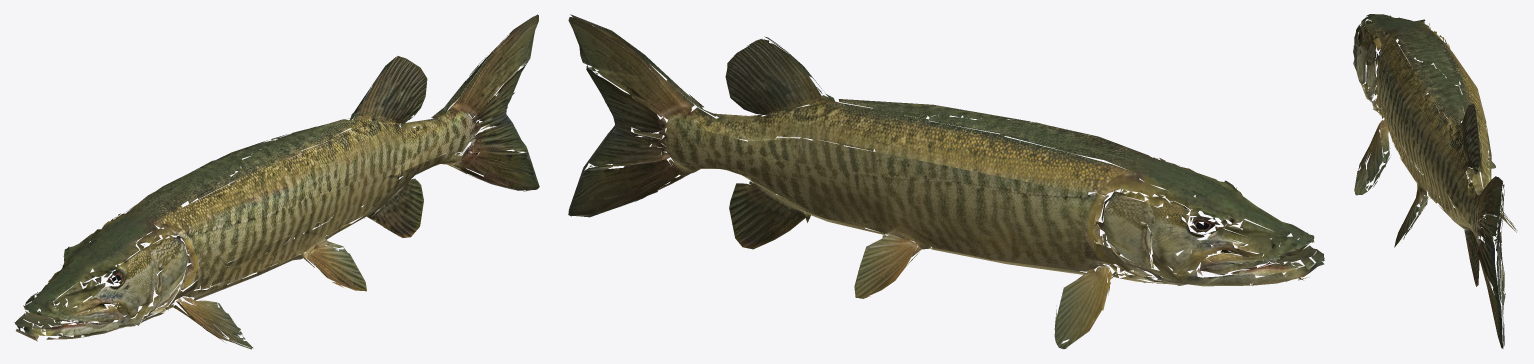
Rendered from musky.glb.
The picture shows the model from 3 angles, left to right: view 1: azimuth 30°, elevation 25°; view 2: azimuth 150°, elevation 25°; view 3: azimuth 270°, elevation 25°; orthographic projection. The views are drawn at different scales.
Visible parts, largest first — view 1: tripo_node_46025cf6; view 2: tripo_node_46025cf6; view 3: tripo_node_46025cf6.
Boxes of the visible parts, x1=… form: tripo_node_46025cf6: x1=14, y1=14, x2=539, y2=349; tripo_node_46025cf6: x1=568, y1=14, x2=1324, y2=348; tripo_node_46025cf6: x1=1353, y1=14, x2=1517, y2=348.
Bounding box in the file's own units: 97.83 × 31.76 × 25.18.
1 material, 1 textured.
